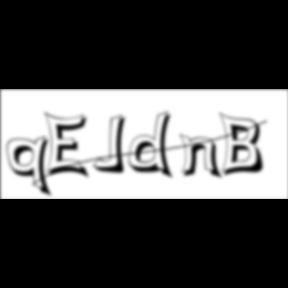B: (220, 111, 270, 179)
E: (44, 110, 94, 182)
J: (94, 114, 132, 176)
d: (129, 110, 179, 182)
n: (180, 132, 226, 181)
q: (7, 135, 56, 200)
